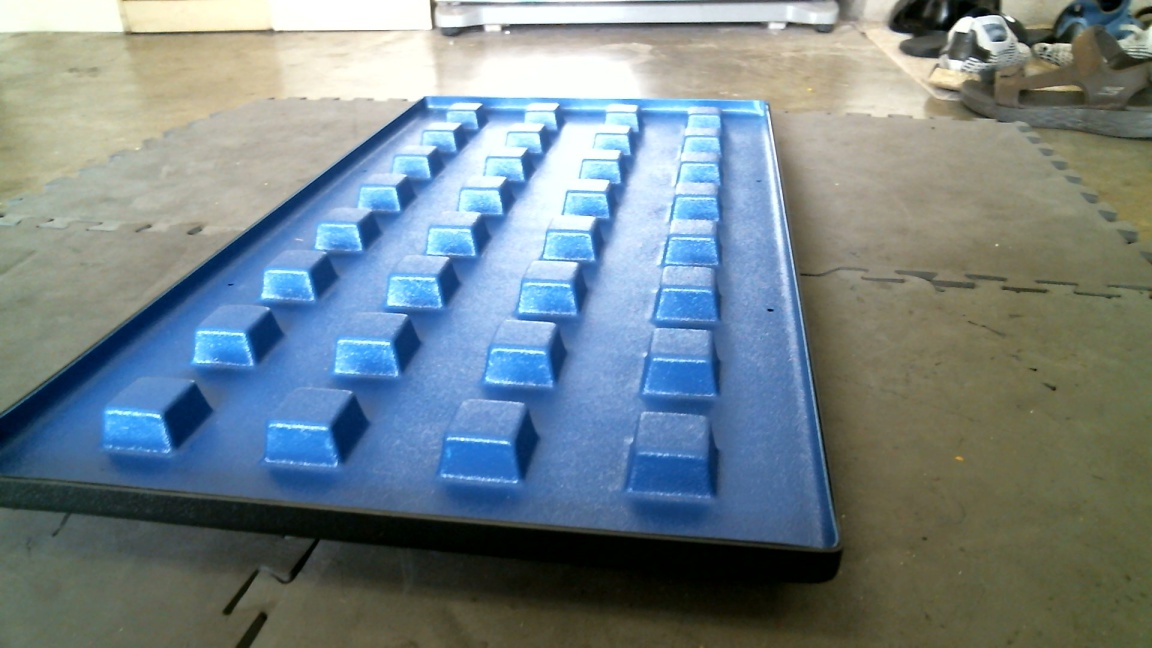blue_foundation: (1, 91, 847, 599)
